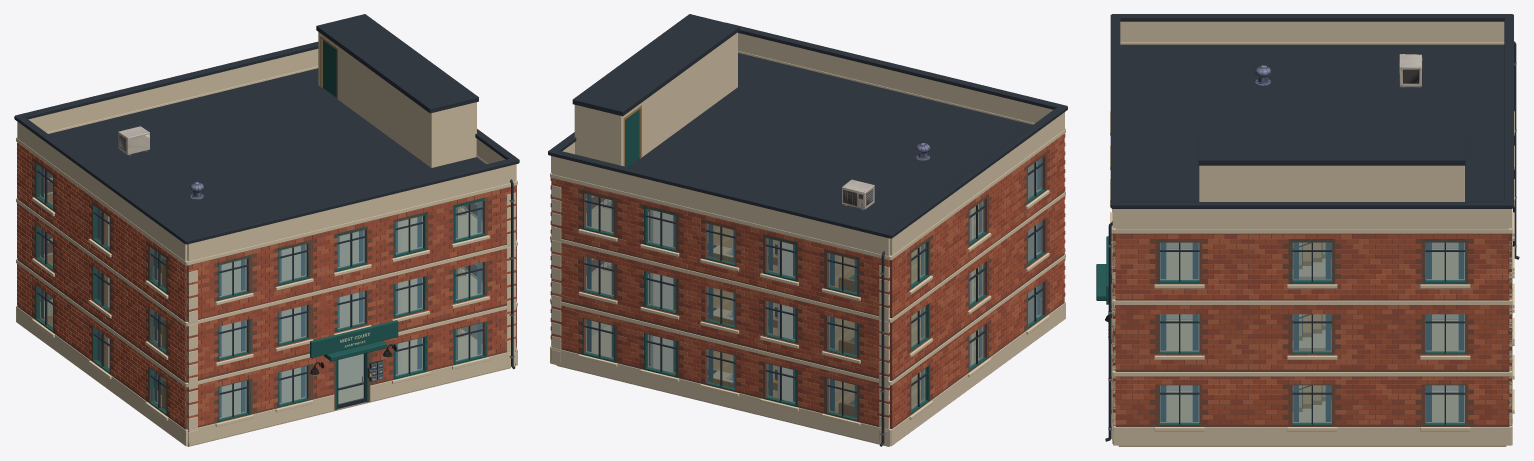
The model's file is city-apartments.glb.
3 renders of one model, left to right at view 1: azimuth 30°, elevation 25°; view 2: azimuth 150°, elevation 25°; view 3: azimuth 270°, elevation 25°, orthographic. The views are drawn at different scales.
Visible parts, largest first — view 1: roof-apt-navy-3, brick-detail-apt-brick--1, roof-apt-cream-3, shell-apt-cream--1, shell-apt-grout--1, shell-apt-glass--1, roof-apt-navy--1, brick-detail-apt-brick2--1, brick-detail-apt-brick3--1, shell-apt-teal--1, shell-apt-navy--1, interior-apt-plaster-0 (+11 smaller); view 2: roof-apt-navy-3, brick-detail-apt-brick--1, roof-apt-cream-3, shell-apt-cream--1, shell-apt-grout--1, shell-apt-glass--1, roof-apt-navy--1, brick-detail-apt-brick2--1, brick-detail-apt-brick3--1, shell-apt-teal--1, shell-apt-navy--1, interior-apt-plaster-0 (+13 smaller); view 3: roof-apt-navy-3, roof-apt-cream-3, brick-detail-apt-brick--1, shell-apt-grout--1, roof-apt-navy--1, shell-apt-cream--1, brick-detail-apt-brick3--1, brick-detail-apt-brick2--1, shell-apt-glass--1, shell-apt-navy--1, interior-apt-stone-0, shell-apt-teal--1 (+9 smaller).
Part boxes in pixels (x1,y1,x2,y2): roof-apt-navy-3: (48, 68, 485, 236); brick-detail-apt-brick--1: (17, 142, 516, 423); roof-apt-cream-3: (17, 32, 516, 261); shell-apt-cream--1: (16, 66, 517, 446); shell-apt-grout--1: (17, 143, 516, 445); shell-apt-glass--1: (39, 166, 482, 419); roof-apt-navy--1: (14, 14, 519, 244); brick-detail-apt-brick2--1: (17, 150, 516, 425); brick-detail-apt-brick3--1: (17, 156, 516, 427); shell-apt-teal--1: (36, 164, 486, 422); shell-apt-navy--1: (37, 170, 515, 417); interior-apt-plaster-0: (106, 337, 400, 416); roof-apt-navy-3: (628, 53, 1032, 230); brick-detail-apt-brick--1: (550, 134, 1065, 426); roof-apt-cream-3: (551, 32, 1064, 256); shell-apt-cream--1: (550, 51, 1065, 446); shell-apt-grout--1: (551, 134, 1064, 429); shell-apt-glass--1: (585, 157, 1042, 418); roof-apt-navy--1: (548, 14, 1067, 238); brick-detail-apt-brick2--1: (550, 136, 1065, 426); brick-detail-apt-brick3--1: (550, 138, 1065, 422); shell-apt-teal--1: (581, 189, 1045, 421); shell-apt-navy--1: (584, 162, 1044, 446); interior-apt-plaster-0: (650, 287, 1037, 402); roof-apt-navy-3: (1120, 44, 1504, 200); roof-apt-cream-3: (1112, 21, 1511, 229); brick-detail-apt-brick--1: (1112, 233, 1512, 424); shell-apt-grout--1: (1113, 233, 1511, 443); roof-apt-navy--1: (1110, 14, 1513, 208); shell-apt-cream--1: (1108, 42, 1514, 445); brick-detail-apt-brick3--1: (1112, 234, 1512, 424); brick-detail-apt-brick2--1: (1112, 233, 1512, 424); shell-apt-glass--1: (1160, 242, 1464, 423); shell-apt-navy--1: (1105, 41, 1519, 441); interior-apt-stone-0: (1118, 386, 1506, 446); shell-apt-teal--1: (1096, 236, 1467, 426).
Bounding box in the file's own units: 18.45 × 12.91 × 17.2.
27 materials, 11 textured.
